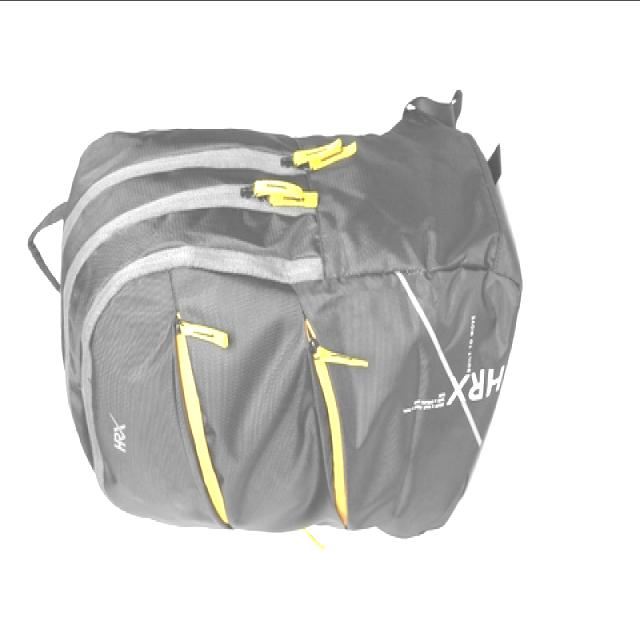backpack: (26, 90, 524, 550)
